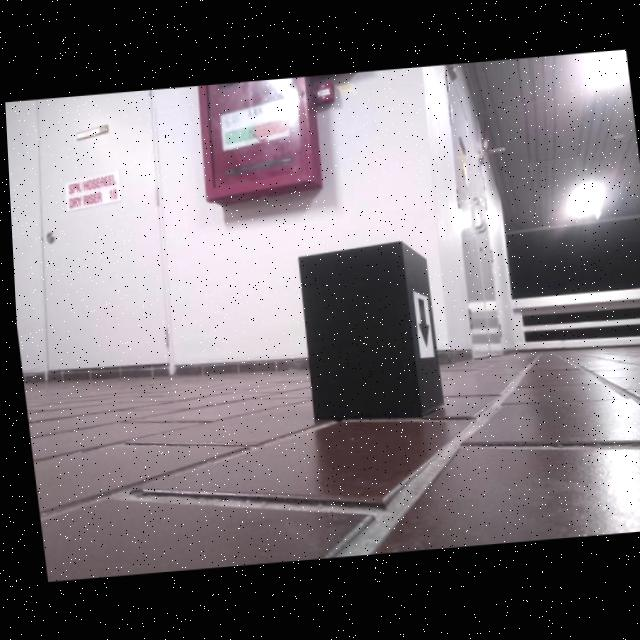DOWN: (414, 299, 426, 349)
